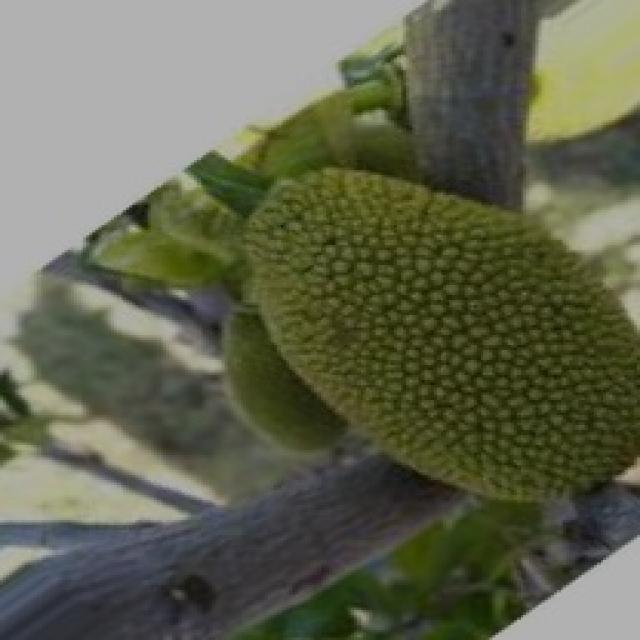Fruit: (231, 148, 640, 532)
